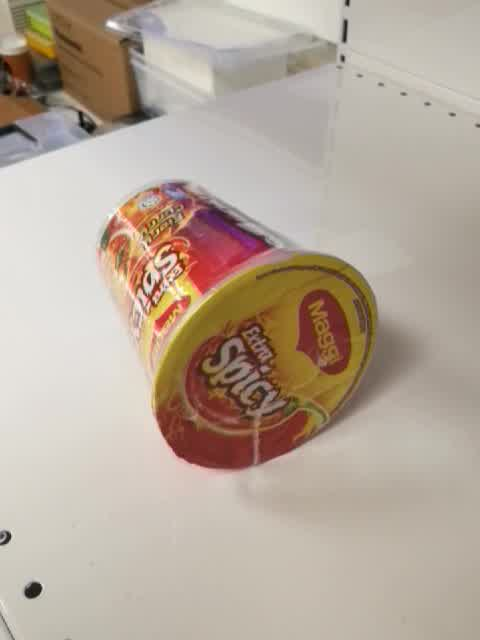maggi: (94, 177, 381, 471)
